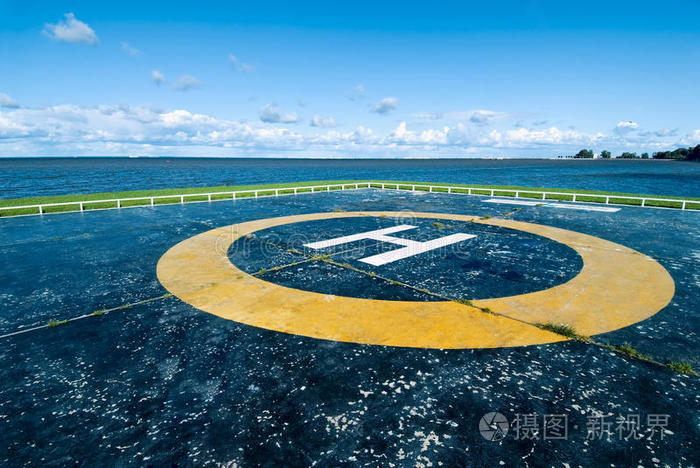H: (305, 224, 477, 266)
